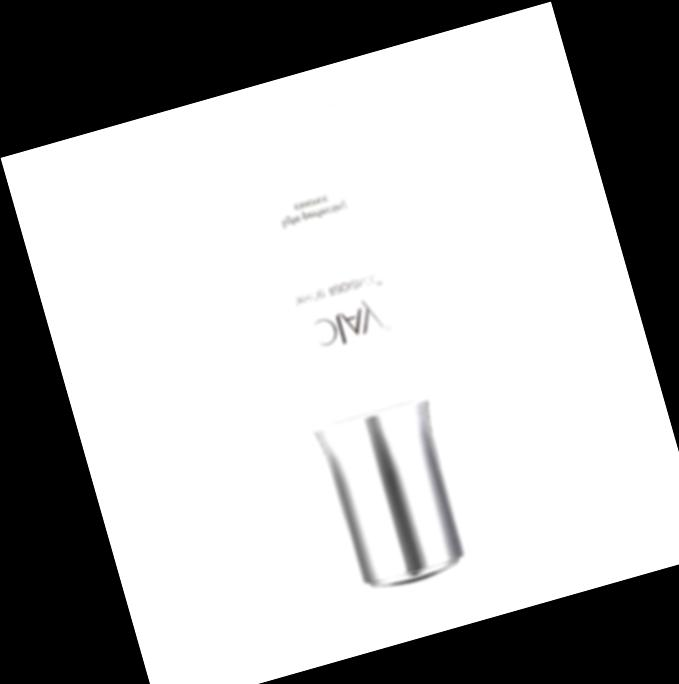cosmetic: (228, 106, 477, 599)
